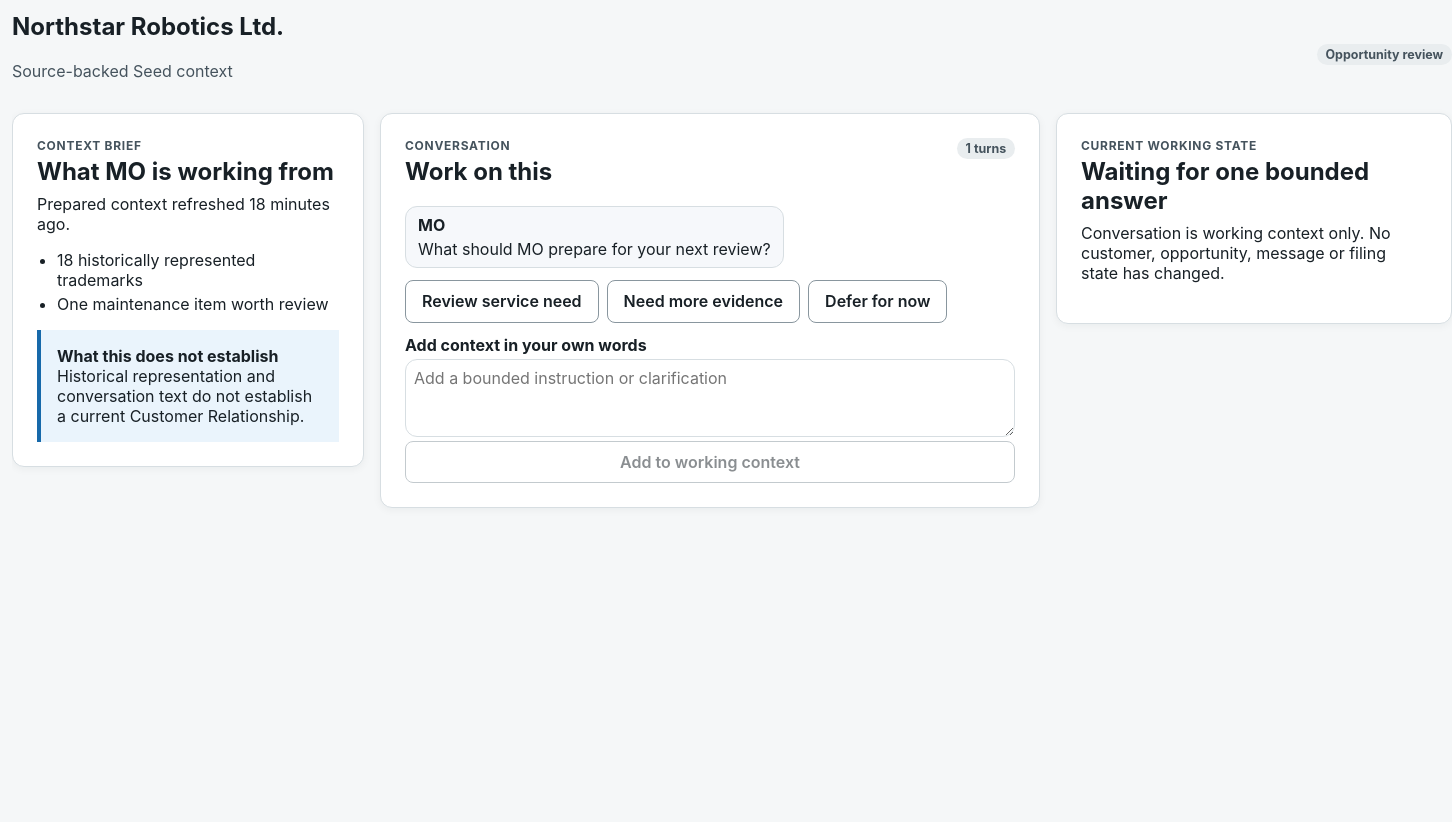
SeedContextualWorkbench › delegates preparation and confirmation to the existing structured journey seam
Click the button "Review service need" at [502, 301], box [405,280,599,323]
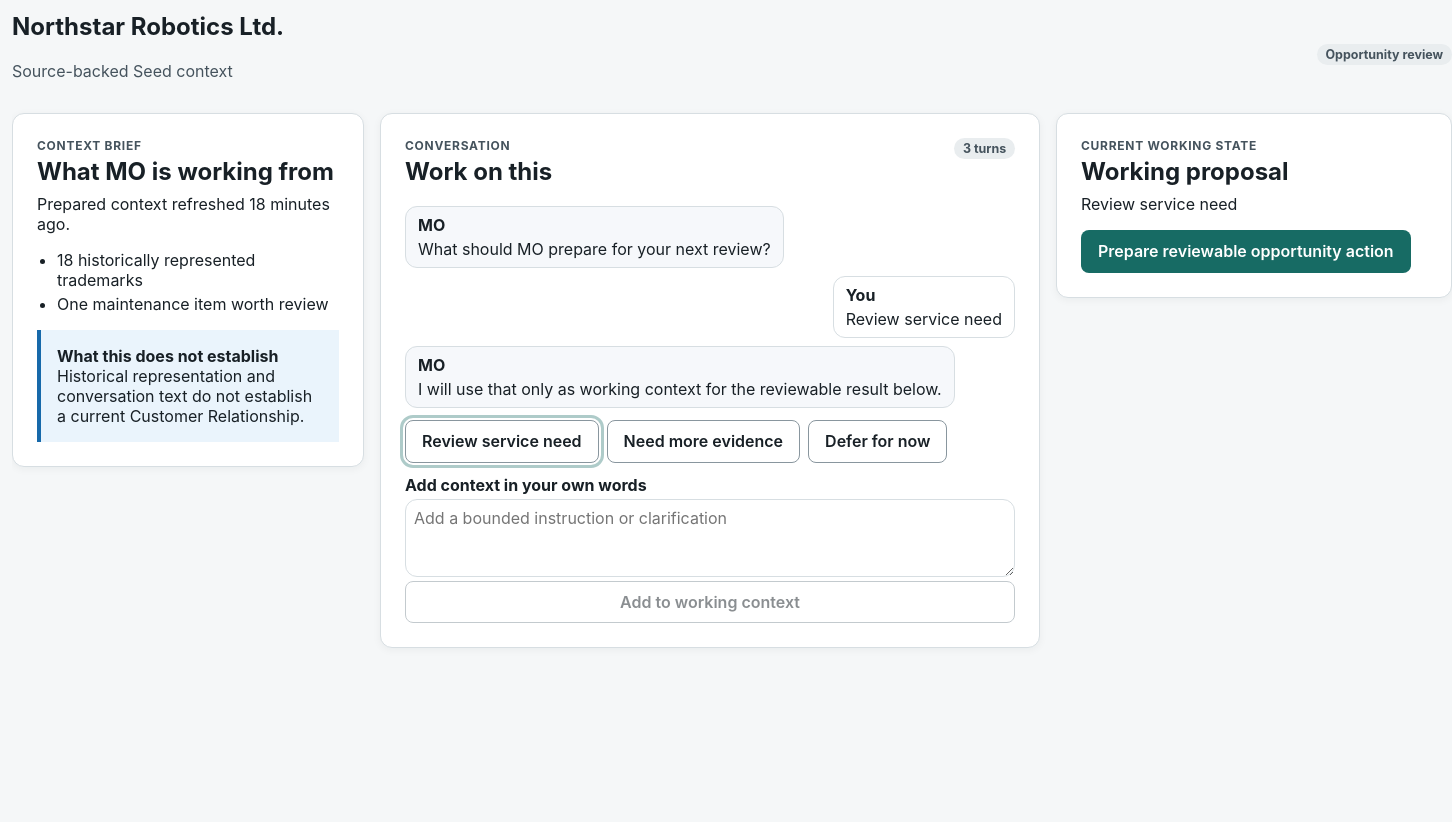
Click the button "Prepare reviewable opportunity action" at [1246, 251], box [1081,230,1411,273]
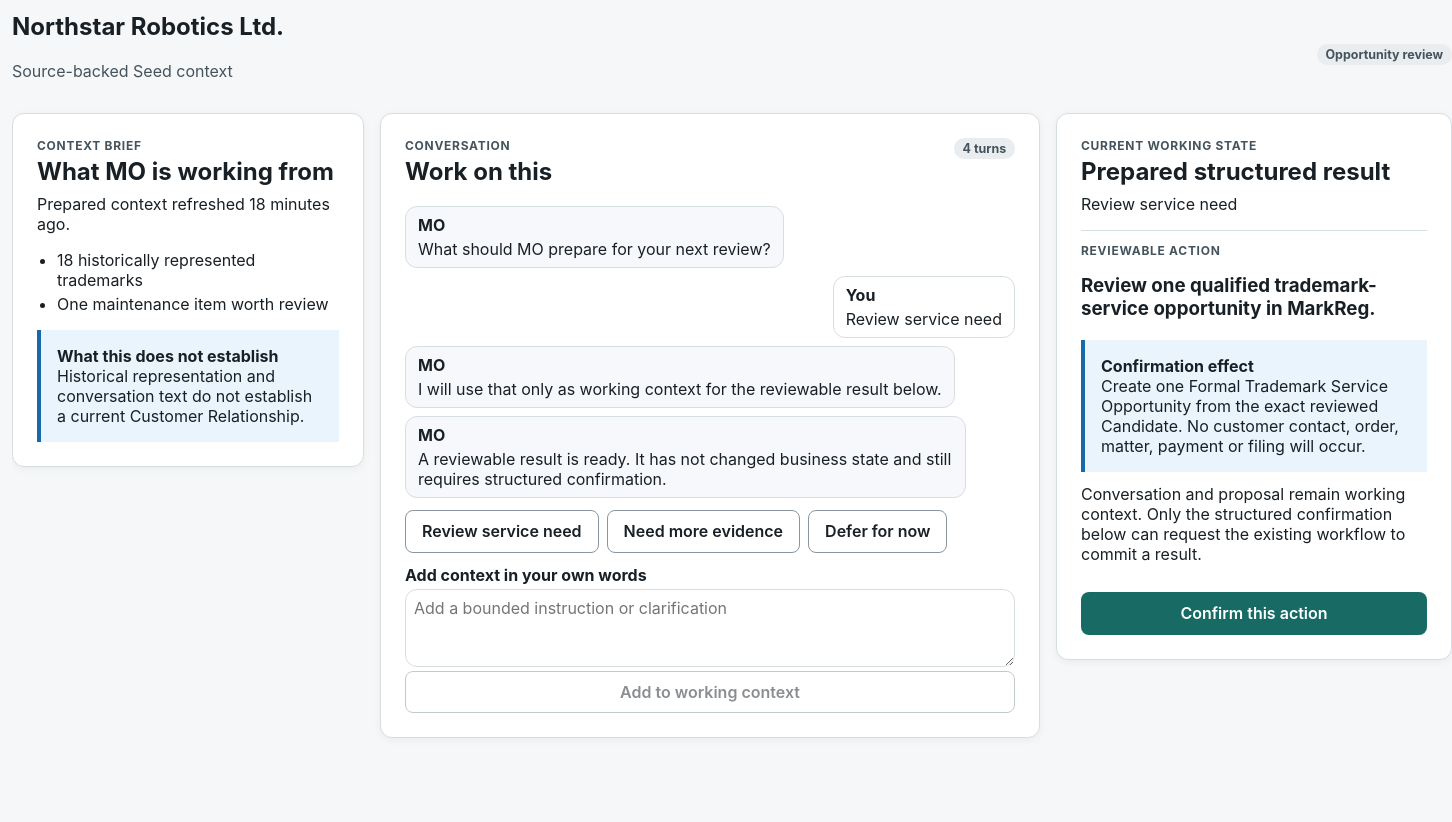
Check: the heading "Review one qualified trademark-service opportunity in MarkReg." is shown, box [1081,274,1427,320]
Check: the text "Create one Formal Trademark Service Opportunity from the exact reviewed Candidate. No customer contact, order, matter, p" is shown, box [1101,376,1399,456]
Click the button "Confirm this action" at [1254, 613], box [1081,592,1427,635]
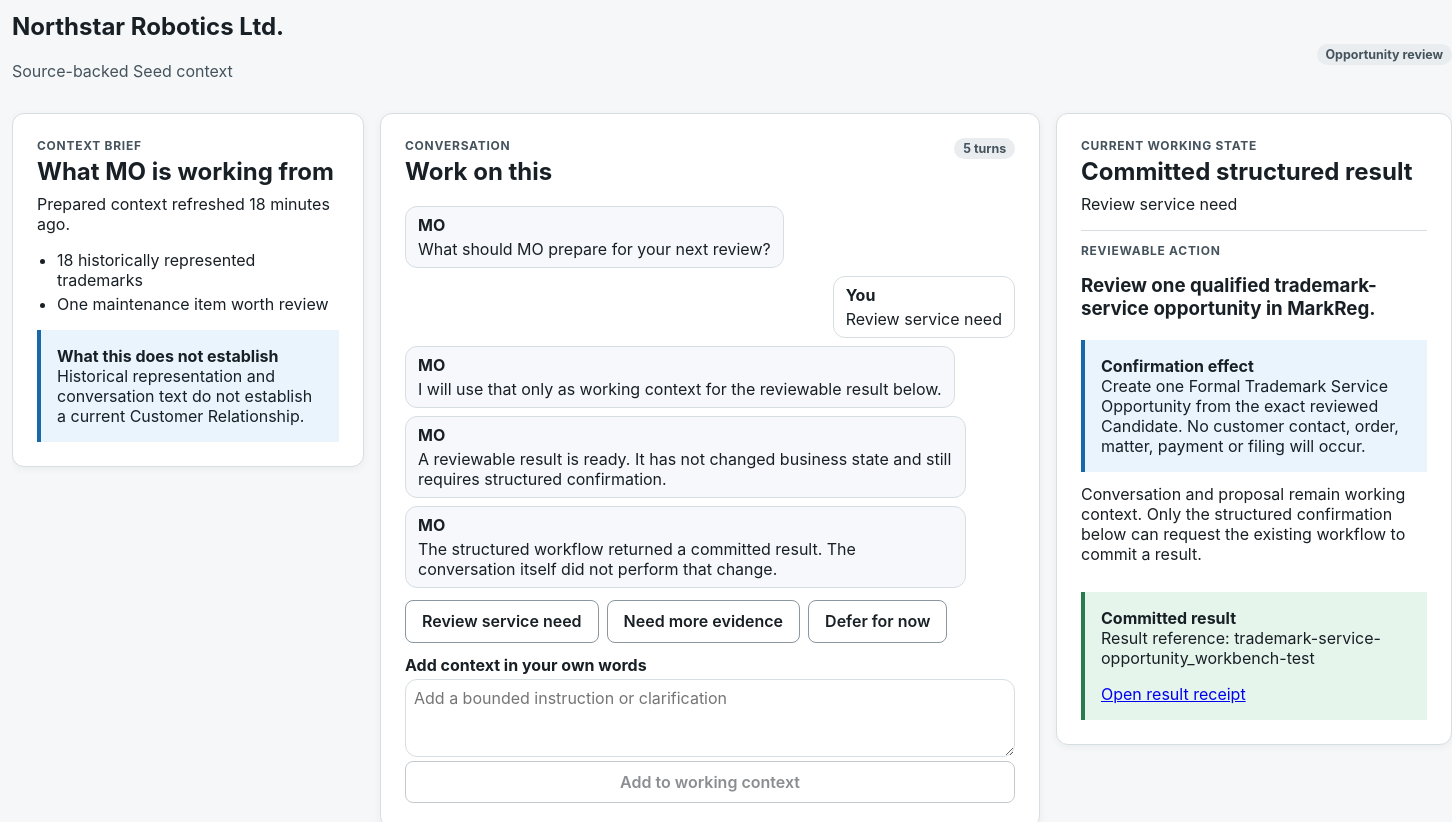
Check: the text "Committed result" is shown, box [1101,608,1236,628]
Check: the text "trademark-service-opportunity_workbench-test" is shown, box [1101,628,1381,668]
